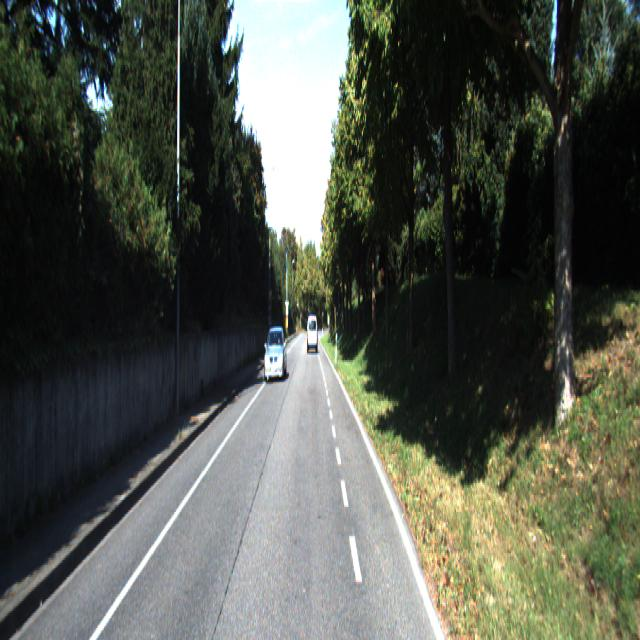Car: (264, 324, 288, 382), (306, 314, 318, 353)
